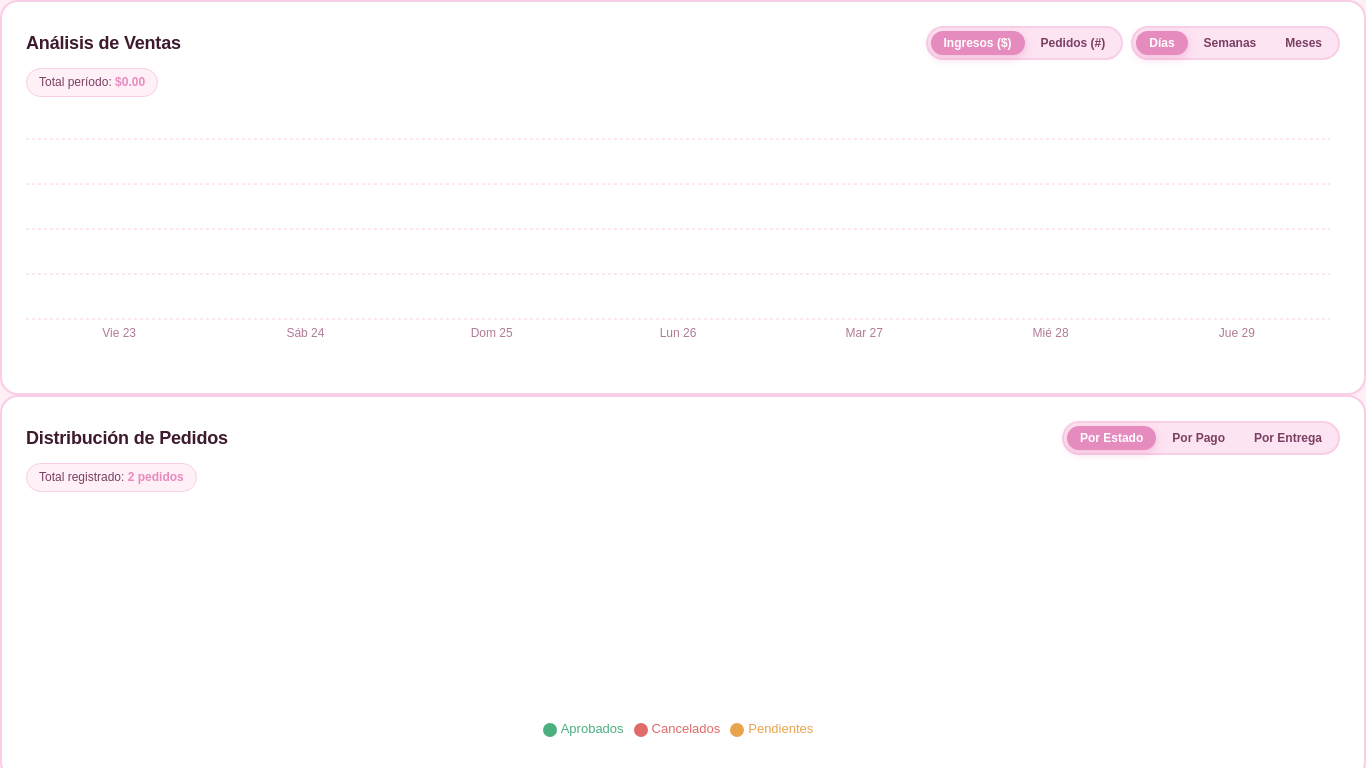
Test case: DashboardCharts — interactividad de métricas y filtros › permite alternar la métrica a cantidad de pedidos
This screenshot has width=1366, height=768.
Check: the heading "Análisis de Ventas" is shown, box x1=26 y1=32 x2=181 y2=54
Click the button "Pedidos (#)": [1073, 43] box x1=1028 y1=31 x2=1118 y2=55
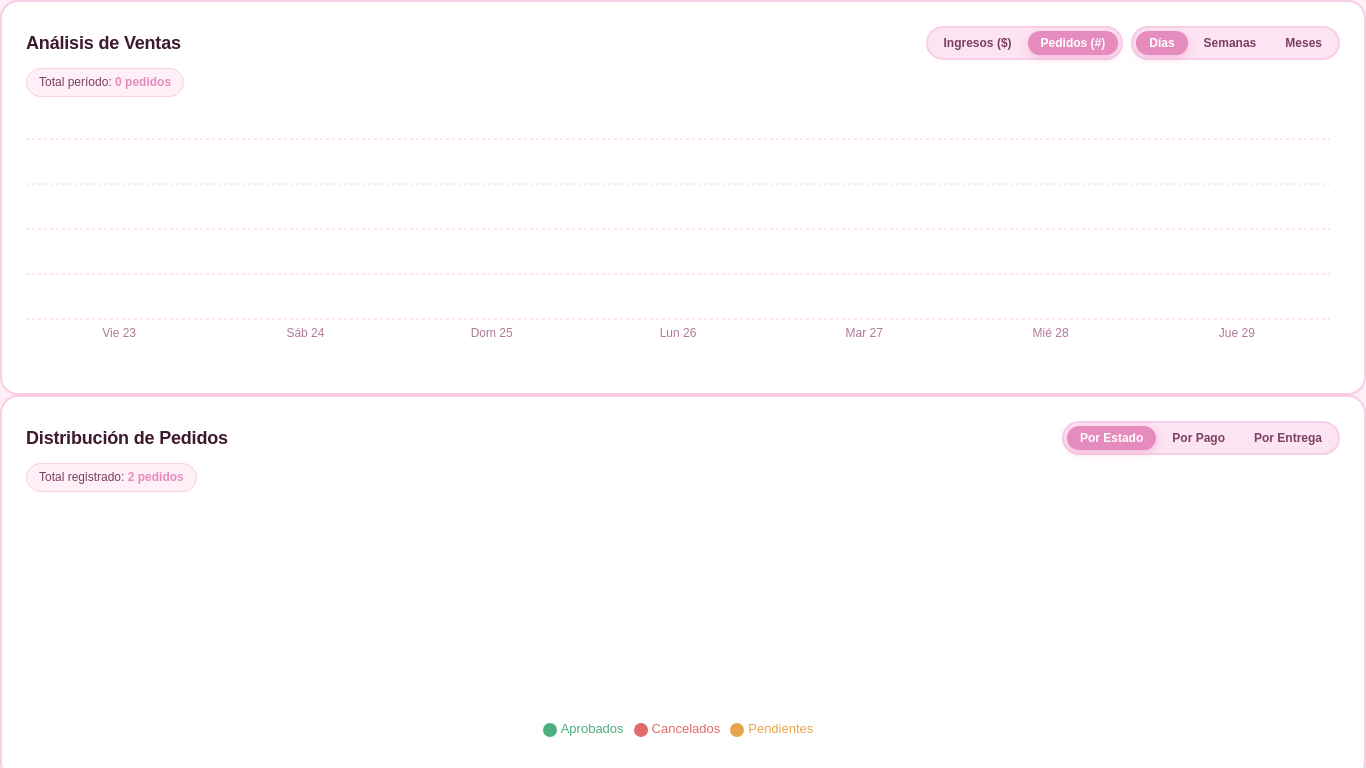
Check: the text "Total período: 0 pedidos" is shown, box x1=39 y1=73 x2=171 y2=92
